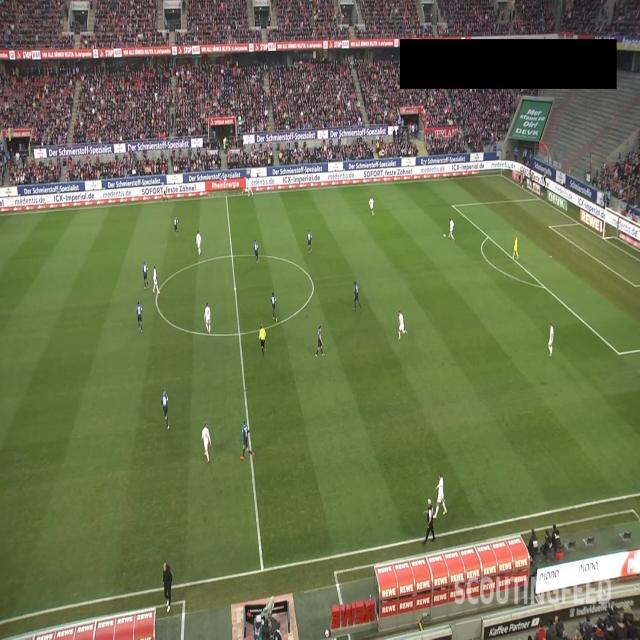ball: (443, 232, 446, 238)
